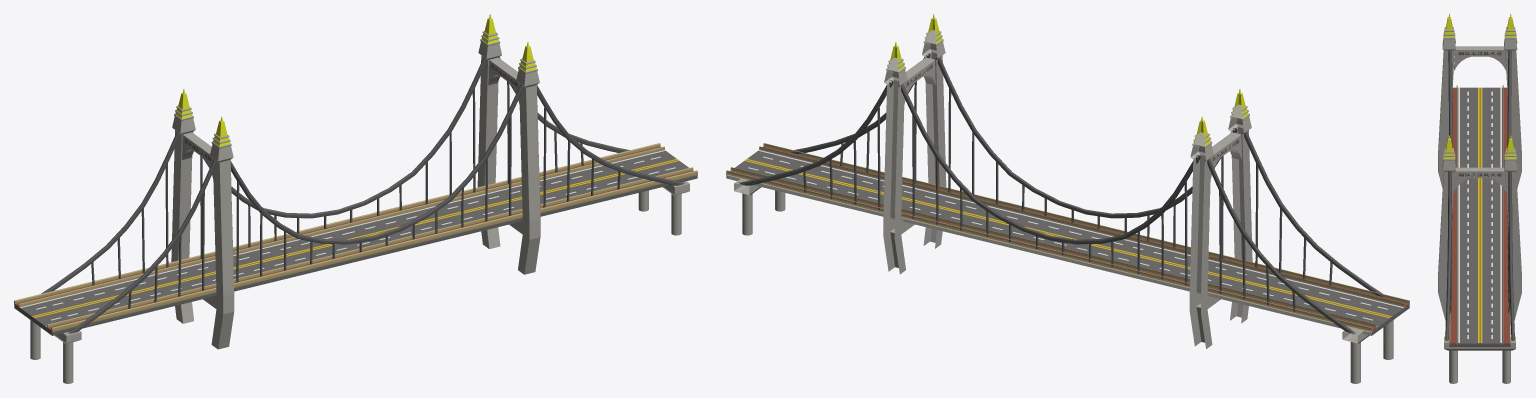
File: SanChaJiDaQiao.fbx
3 renders of one model, left to right at view 1: azimuth 30°, elevation 25°; view 2: azimuth 150°, elevation 25°; view 3: azimuth 270°, elevation 25°, orthographic. The views are drawn at different scales.
Parts seen in each view (by area): view 1: SanChaJiDaQiao; view 2: SanChaJiDaQiao; view 3: SanChaJiDaQiao.
Part boxes in pixels (x1,y1,x2,y2): SanChaJiDaQiao: [14, 14, 697, 383]; SanChaJiDaQiao: [726, 14, 1409, 383]; SanChaJiDaQiao: [1438, 14, 1521, 383].
Bounding box in the file's own units: 429 × 146 × 59.45.
1 material, 1 textured.
